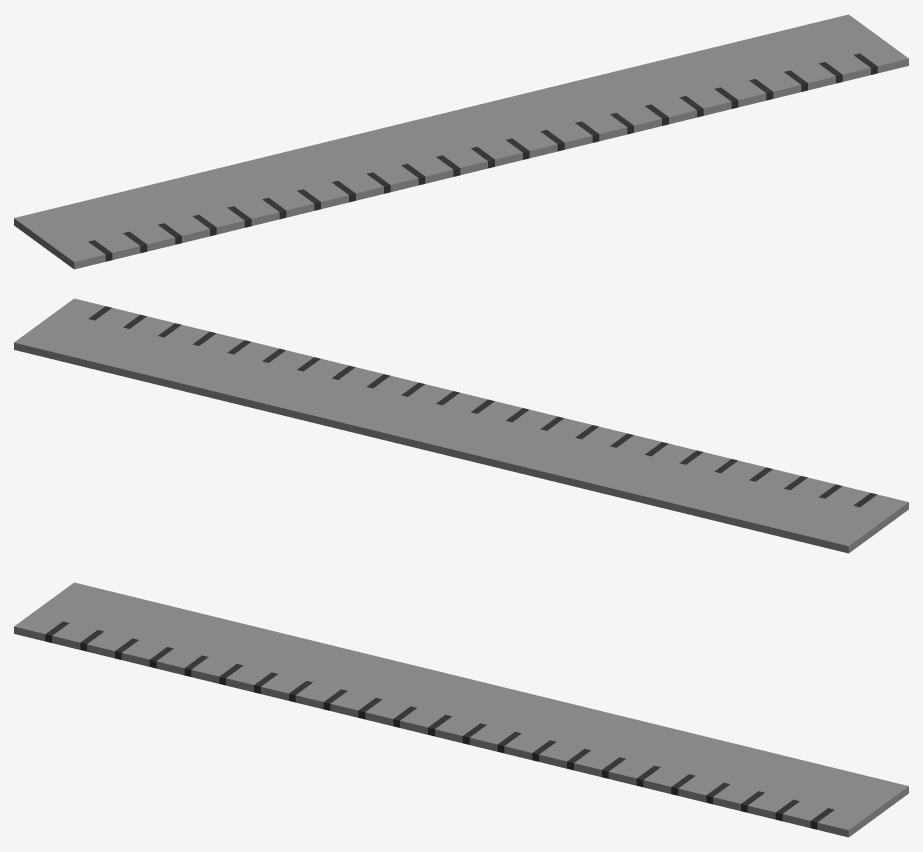
The model's file is Int_OfficeRuler01_2.fbx.
3 views of the same model, one above another, from view 1: azimuth 30°, elevation 25°; view 2: azimuth 150°, elevation 25°; view 3: azimuth 330°, elevation 25° (orthographic).
Parts seen in each view (by area): view 1: Int_OfficeRuler01_2; view 2: Int_OfficeRuler01_2; view 3: Int_OfficeRuler01_2.
Part boxes in pixels (bbox=[...]): Int_OfficeRuler01_2: bbox=[14, 14, 908, 269]; Int_OfficeRuler01_2: bbox=[14, 298, 908, 553]; Int_OfficeRuler01_2: bbox=[14, 582, 908, 837].
Size of what is drawn, in the model's own units: 60 by 7.5 by 0.5.
